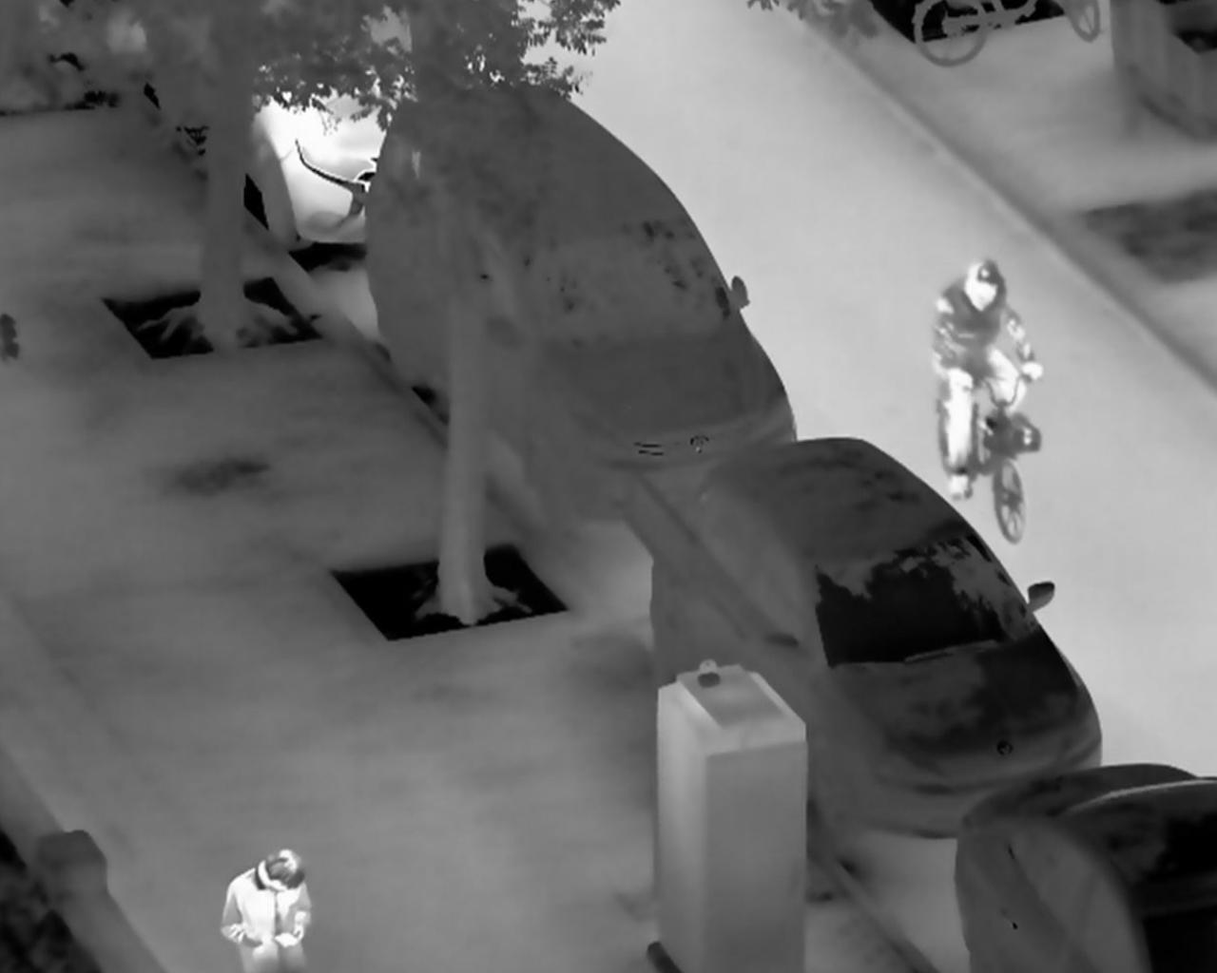person: (933, 260, 1041, 503), (217, 845, 313, 973)
